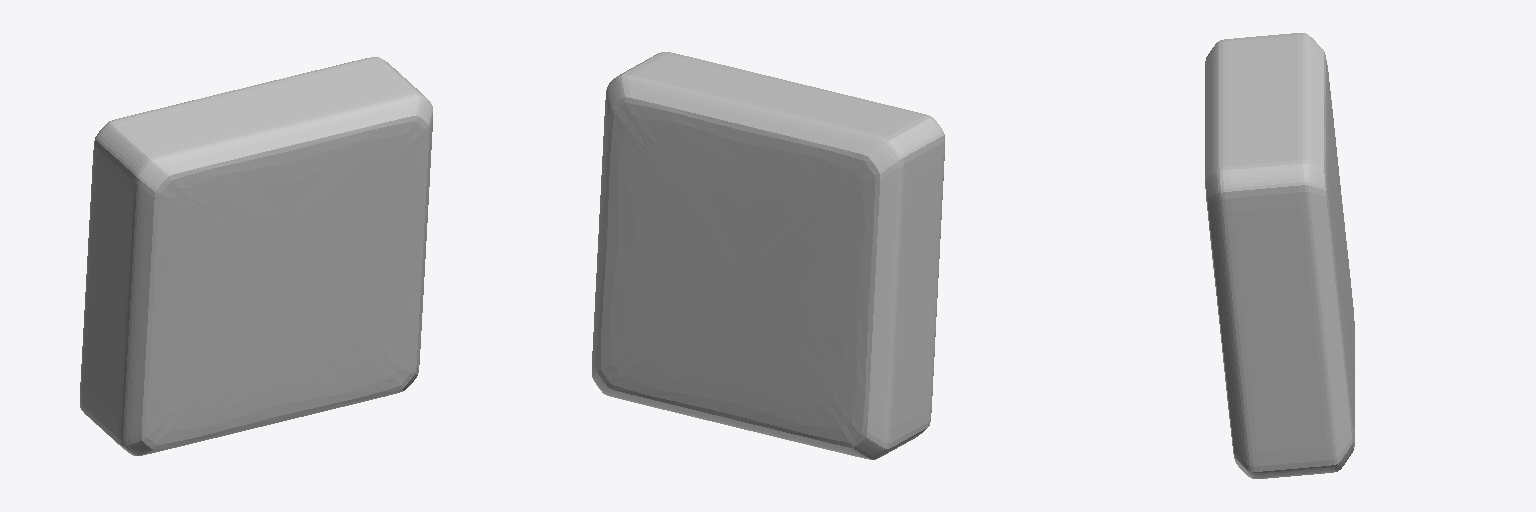
File: helmet_model.obj
The picture shows the model from 3 angles: view 1: azimuth 30°, elevation 25°; view 2: azimuth 150°, elevation 25°; view 3: azimuth 270°, elevation 25°; orthographic projection.
Visible parts, largest first — view 1: pCube105; view 2: pCube105; view 3: pCube105.
Boxes of the visible parts, x1=… form: pCube105: x1=80, y1=57, x2=432, y2=455; pCube105: x1=592, y1=52, x2=944, y2=459; pCube105: x1=1205, y1=33, x2=1354, y2=478.
Bounding box in the file's own units: 8 × 8.13 × 3.49.